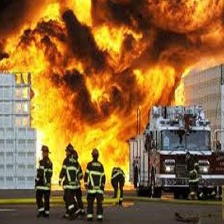fire: (2, 1, 221, 182)
